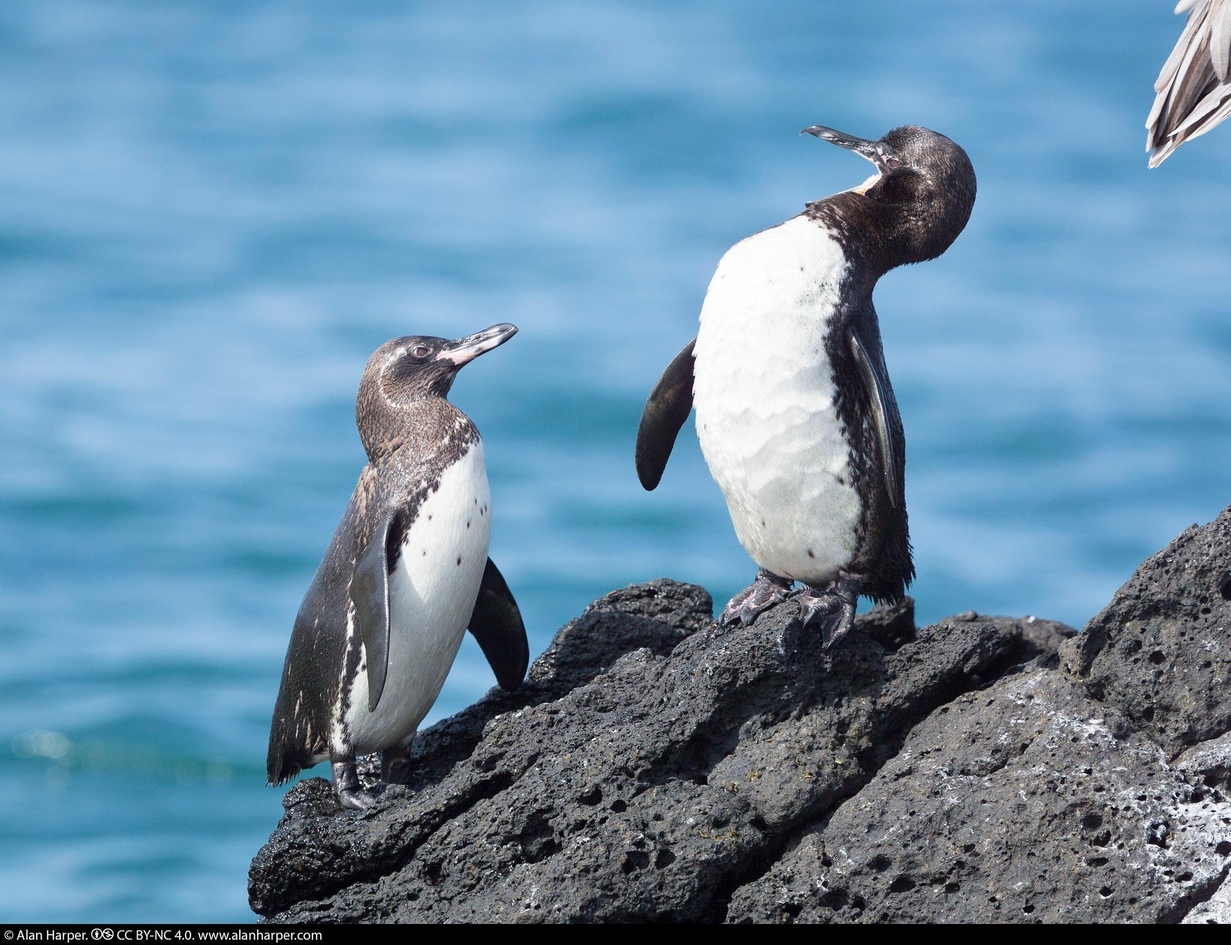Penguin: (635, 125, 976, 646), (267, 325, 529, 808)
